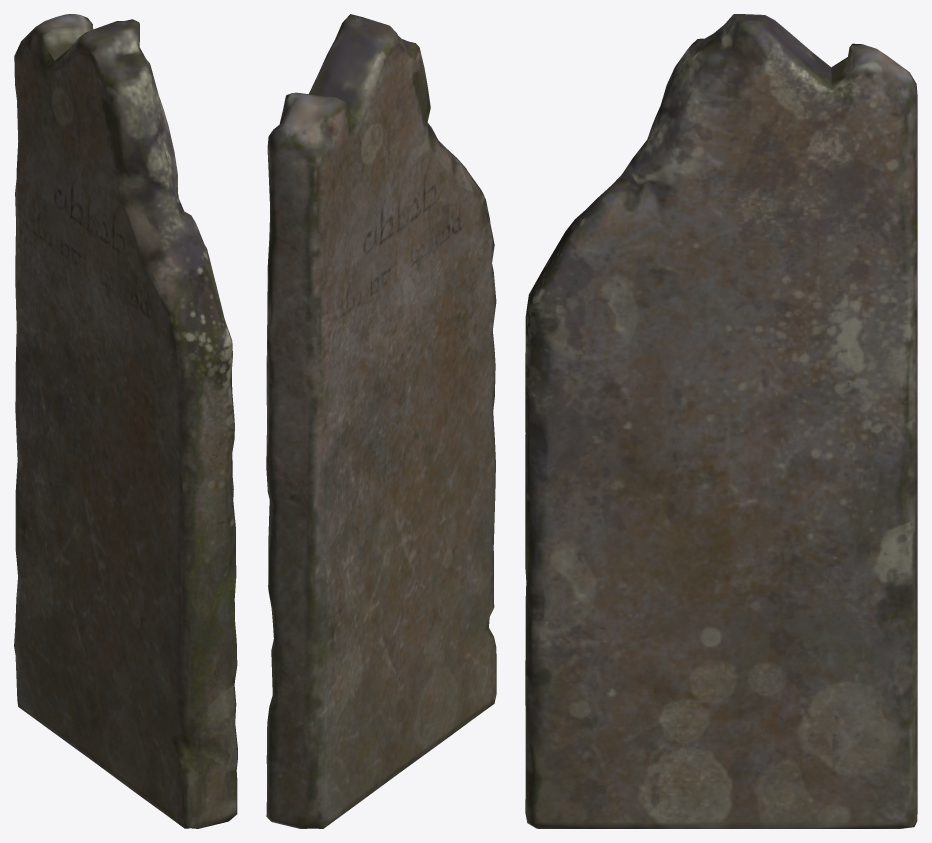
File: SM_TombsBroken_001.fbx
The picture shows the model from 3 angles, left to right: view 1: azimuth 30°, elevation 25°; view 2: azimuth 150°, elevation 25°; view 3: azimuth 270°, elevation 25°; orthographic projection. The views are drawn at different scales.
Parts seen in each view (by area): view 1: SM_TombsBroken_001_LOD0; view 2: SM_TombsBroken_001_LOD0; view 3: SM_TombsBroken_001_LOD0.
Boxes of the visible parts, box(x1,y1,x2,y2) form: SM_TombsBroken_001_LOD0: box(14, 14, 237, 828); SM_TombsBroken_001_LOD0: box(266, 14, 496, 828); SM_TombsBroken_001_LOD0: box(525, 14, 917, 828).
Bounding box in the file's own units: 7.5 × 42.19 × 95.1.
Materials: 1 (1 with a texture image).
